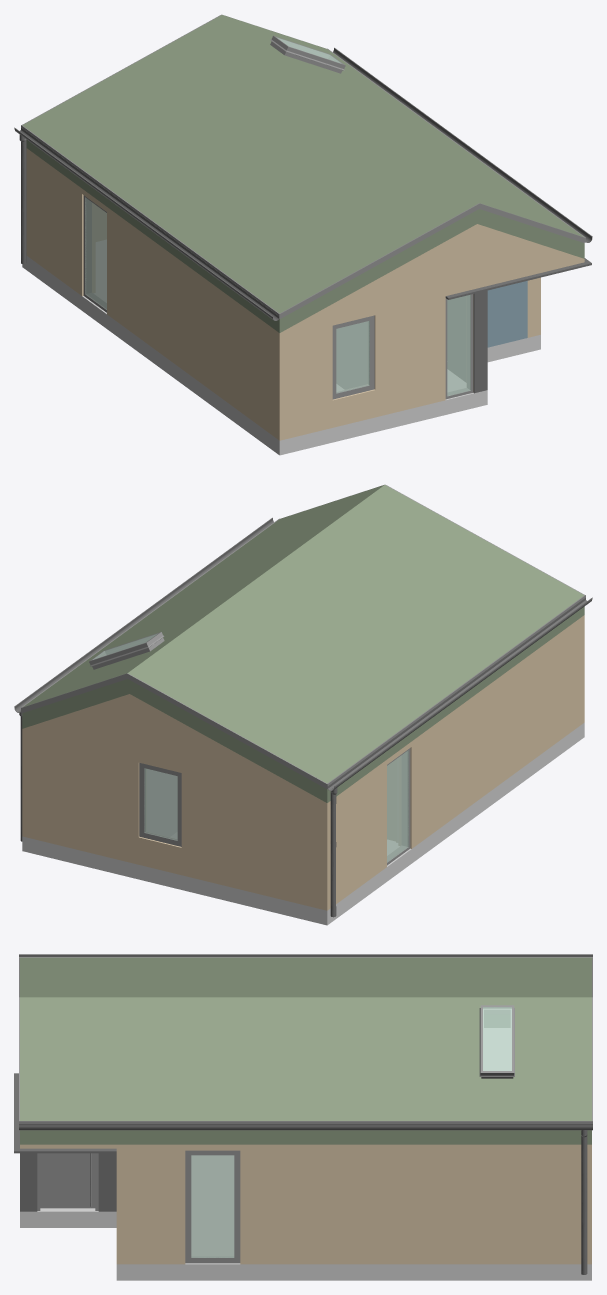
File: ON_ADU_01.glb
3 renders of one model, top to bottom at view 1: azimuth 30°, elevation 25°; view 2: azimuth 150°, elevation 25°; view 3: azimuth 270°, elevation 25°, orthographic. The views are drawn at different scales.
Visible parts, largest first — view 1: Geom3D_2xqFSLWzP9aO6Wng5kGzHP_Basic Roof:R1 - Exterior Envel, Geom3D_2xqFSLWzP9aO6Wng5kGzen_Basic Wall:W1 - Exterior Envel, Geom3D_1dAesSPX99KeT3YO9mU0py_Basic Wall:W1 - Exterior Envel, Geom3D_2GYminp9b0DO$rxgDBAB4N_Slab Edge:Slab Edge:8102728, Geom3D (×3), Geom3D_1wz0bNN0n2vu6vFykoQRZk_Gutter:Gutter:7737229, Geom3D_1G7hYIfH58z92kmJQ6Bti9_Fascia:Fascia:6875795, Geom3D_2B5Ve7YUrC4hjN4dPqrqgk_Basic Wall:W1 - Exterior Envel, Geom3D_22$NEk9j90iuvmcQd9PQP0_Basic Wall:W1 - Exterior Envel, Geom3D_0$mN1OkY5588DcVQ0KSIGI_Operable:3'0"x5'0":8074457, Geom3D_2lYUTWeWr6OeT5meSG5VgU_Fixed:3'0"x6'10":8083340, Geom3D_22$NEk9j90iuvmcQd9PQG8_Basic Wall:P1 - 2x4 Stud:80578 (+9 smaller); view 2: Geom3D_2xqFSLWzP9aO6Wng5kGzHP_Basic Roof:R1 - Exterior Envel, Geom3D_2xqFSLWzP9aO6Wng5kGzem_Basic Wall:W1 - Exterior Envel, Geom3D_2xqFSLWzP9aO6Wng5kGzen_Basic Wall:W1 - Exterior Envel, Geom3D_2GYminp9b0DO$rxgDBAB4N_Slab Edge:Slab Edge:8102728, Geom3D_1wz0bNN0n2vu6vFykoQRZk_Gutter:Gutter:7737229, Geom3D_1G7hYIfH58z92kmJQ6Bti9_Fascia:Fascia:6875795, Geom3D_2lYUTWeWr6OeT5meSG5Vh8_Operable:3'0"x5'0":8083339, Geom3D_2lYUTWeWr6OeT5meSG5VgU_Fixed:3'0"x6'10":8083340, Geom3D_3RyRpD74TFFuj3gu4ooUHZ_Basic Wall:P1b - 2x6 Stud:8572, Geom3D_2xqFSLWzP9aO6Wng5kGzep_Basic Wall:W1 - Exterior Envel, Geom3D, Geom3D_Component103 (+5 smaller); view 3: Geom3D_2xqFSLWzP9aO6Wng5kGzHP_Basic Roof:R1 - Exterior Envel, Geom3D_2xqFSLWzP9aO6Wng5kGzep_Basic Wall:W1 - Exterior Envel, Geom3D_2GYminp9b0DO$rxgDBAB4N_Slab Edge:Slab Edge:8102728, Geom3D (×4), Geom3D_1wz0bNN0n2vu6vFykoQRZk_Gutter:Gutter:7737229, Geom3D_2xqFSLWzP9aO6Wng5kGzEv_Floor:F1 - Slab on Grade:66103, Geom3D_22$NEk9j90iuvmcQd9PQJH_Exterior - Single Panel, Entry, Geom3D_1G7hYIfH58z92kmJQ6Bti9_Fascia:Fascia:6875795, Geom3D_35LypPdF17E94e4ThyeUrc_Basic Wall:xNoSched - Flashing, Geom3D_3RyRpD74TFFuj3gu4ooUHZ_Basic Wall:P1b - 2x6 Stud:8572, Geom3D_0sx9bmdAfFXOTxER7O_0hB_Downspout:Standard:9023738, Geom3D_3AHPId$a19wwOIrKlLc98w_Wall Sweep:Soffit Detail:88995.
Boxes of the visible parts, left/top/right/bottom form: Geom3D_2xqFSLWzP9aO6Wng5kGzHP_Basic Roof:R1 - Exterior Envel: left=22, top=15, right=584, bottom=332; Geom3D_2xqFSLWzP9aO6Wng5kGzen_Basic Wall:W1 - Exterior Envel: left=30, top=151, right=271, bottom=434; Geom3D_1dAesSPX99KeT3YO9mU0py_Basic Wall:W1 - Exterior Envel: left=272, top=224, right=487, bottom=440; Geom3D_2GYminp9b0DO$rxgDBAB4N_Slab Edge:Slab Edge:8102728: left=22, top=240, right=540, bottom=455; Geom3D (×3): left=270, top=35, right=473, bottom=399; Geom3D_1wz0bNN0n2vu6vFykoQRZk_Gutter:Gutter:7737229: left=14, top=47, right=592, bottom=320; Geom3D_1G7hYIfH58z92kmJQ6Bti9_Fascia:Fascia:6875795: left=21, top=14, right=585, bottom=318; Geom3D_2B5Ve7YUrC4hjN4dPqrqgk_Basic Wall:W1 - Exterior Envel: left=487, top=227, right=584, bottom=285; Geom3D_22$NEk9j90iuvmcQd9PQP0_Basic Wall:W1 - Exterior Envel: left=487, top=281, right=527, bottom=347; Geom3D_0$mN1OkY5588DcVQ0KSIGI_Operable:3'0"x5'0":8074457: left=336, top=321, right=369, bottom=393; Geom3D_2lYUTWeWr6OeT5meSG5VgU_Fixed:3'0"x6'10":8083340: left=85, top=197, right=106, bottom=309; Geom3D_22$NEk9j90iuvmcQd9PQG8_Basic Wall:P1 - 2x4 Stud:80578: left=336, top=322, right=367, bottom=389; Geom3D_2xqFSLWzP9aO6Wng5kGzHP_Basic Roof:R1 - Exterior Envel: left=22, top=485, right=584, bottom=802; Geom3D_2xqFSLWzP9aO6Wng5kGzem_Basic Wall:W1 - Exterior Envel: left=36, top=694, right=330, bottom=910; Geom3D_2xqFSLWzP9aO6Wng5kGzen_Basic Wall:W1 - Exterior Envel: left=336, top=621, right=576, bottom=903; Geom3D_2GYminp9b0DO$rxgDBAB4N_Slab Edge:Slab Edge:8102728: left=22, top=722, right=584, bottom=925; Geom3D_1wz0bNN0n2vu6vFykoQRZk_Gutter:Gutter:7737229: left=14, top=517, right=592, bottom=790; Geom3D_1G7hYIfH58z92kmJQ6Bti9_Fascia:Fascia:6875795: left=21, top=484, right=585, bottom=788; Geom3D_2lYUTWeWr6OeT5meSG5Vh8_Operable:3'0"x5'0":8083339: left=144, top=768, right=177, bottom=840; Geom3D_2lYUTWeWr6OeT5meSG5VgU_Fixed:3'0"x6'10":8083340: left=387, top=750, right=408, bottom=862; Geom3D_3RyRpD74TFFuj3gu4ooUHZ_Basic Wall:P1b - 2x6 Stud:8572: left=146, top=769, right=177, bottom=836; Geom3D_2xqFSLWzP9aO6Wng5kGzep_Basic Wall:W1 - Exterior Envel: left=22, top=724, right=35, bottom=839; Geom3D: left=89, top=632, right=164, bottom=669; Geom3D_Component103: left=387, top=748, right=410, bottom=865; Geom3D_2xqFSLWzP9aO6Wng5kGzHP_Basic Roof:R1 - Exterior Envel: left=20, top=957, right=591, bottom=1144; Geom3D_2xqFSLWzP9aO6Wng5kGzep_Basic Wall:W1 - Exterior Envel: left=116, top=1144, right=591, bottom=1264; Geom3D_2GYminp9b0DO$rxgDBAB4N_Slab Edge:Slab Edge:8102728: left=20, top=1208, right=591, bottom=1280; Geom3D (×4): left=185, top=1005, right=514, bottom=1263; Geom3D_1wz0bNN0n2vu6vFykoQRZk_Gutter:Gutter:7737229: left=19, top=954, right=592, bottom=1130; Geom3D_2xqFSLWzP9aO6Wng5kGzEv_Floor:F1 - Slab on Grade:66103: left=191, top=1155, right=233, bottom=1251; Geom3D_22$NEk9j90iuvmcQd9PQJH_Exterior - Single Panel, Entry: left=37, top=1153, right=98, bottom=1210; Geom3D_1G7hYIfH58z92kmJQ6Bti9_Fascia:Fascia:6875795: left=19, top=957, right=592, bottom=1123; Geom3D_35LypPdF17E94e4ThyeUrc_Basic Wall:xNoSched - Flashing: left=21, top=1153, right=116, bottom=1211; Geom3D_3RyRpD74TFFuj3gu4ooUHZ_Basic Wall:P1b - 2x6 Stud:8572: left=484, top=1028, right=510, bottom=1070; Geom3D_0sx9bmdAfFXOTxER7O_0hB_Downspout:Standard:9023738: left=581, top=1130, right=587, bottom=1274; Geom3D_3AHPId$a19wwOIrKlLc98w_Wall Sweep:Soffit Detail:88995: left=14, top=1073, right=116, bottom=1153.
Bounding box in the file's own units: 6.84 × 4.16 × 9.62.
